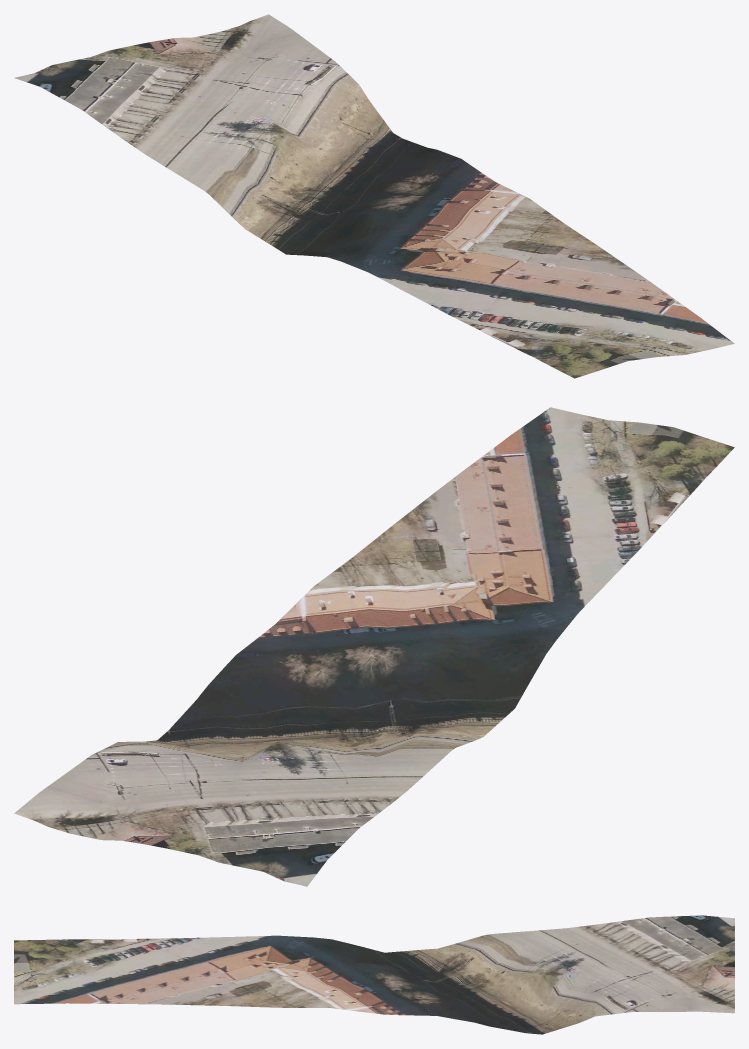
Rendered from CM_Terrain_24485749_6821227.fbx.
The picture shows the model from 3 angles, top to bottom: view 1: azimuth 30°, elevation 25°; view 2: azimuth 150°, elevation 25°; view 3: azimuth 270°, elevation 25°; orthographic projection. The views are drawn at different scales.
Visible parts, largest first — view 1: CM_Terrain_24485749_6821227_LOD0; view 2: CM_Terrain_24485749_6821227_LOD0; view 3: CM_Terrain_24485749_6821227_LOD0.
Part boxes in pixels (x1=…): CM_Terrain_24485749_6821227_LOD0: x1=14, y1=14, x2=734, y2=378; CM_Terrain_24485749_6821227_LOD0: x1=14, y1=407, x2=734, y2=886; CM_Terrain_24485749_6821227_LOD0: x1=14, y1=915, x2=734, y2=1034.
Size of what is drawn, in the model's own units: 64.64 by 11.66 by 205.
